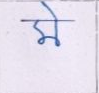o_matra: (51, 8, 62, 47)
